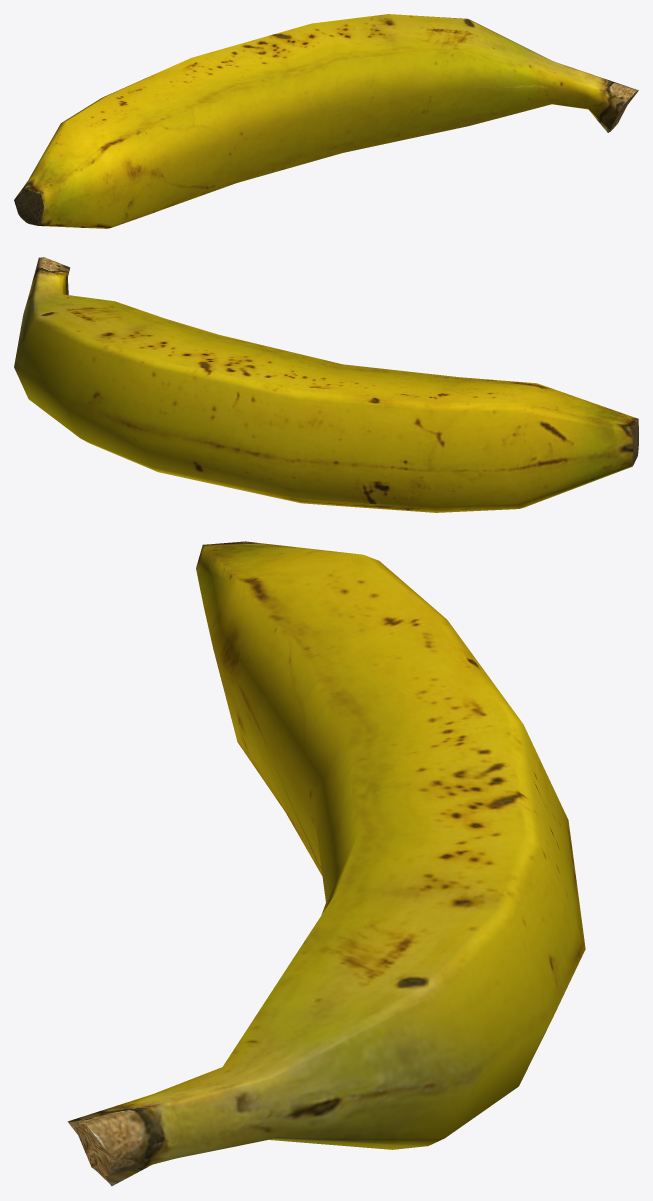
File: xiangjiao.fbx
The picture shows the model from 3 angles, top to bottom: view 1: azimuth 30°, elevation 25°; view 2: azimuth 150°, elevation 25°; view 3: azimuth 270°, elevation 25°; orthographic projection. The views are drawn at different scales.
Parts seen in each view (by area): view 1: xiangjiao; view 2: xiangjiao; view 3: xiangjiao.
Part boxes in pixels (<box>): xiangjiao: <box>14,14,638,228</box>; xiangjiao: <box>14,257,638,512</box>; xiangjiao: <box>67,541,585,1186</box>.
Size of the model in its own units: 19.97 by 3.68 by 7.72.
